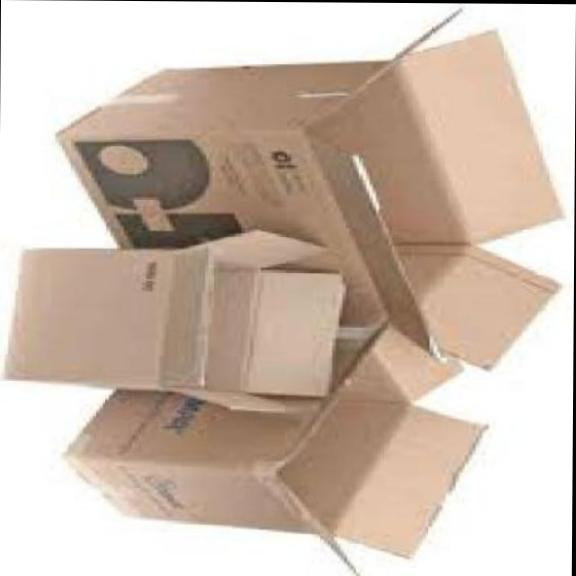Kertas: (68, 319, 492, 574), (69, 329, 484, 567), (9, 224, 351, 413)
